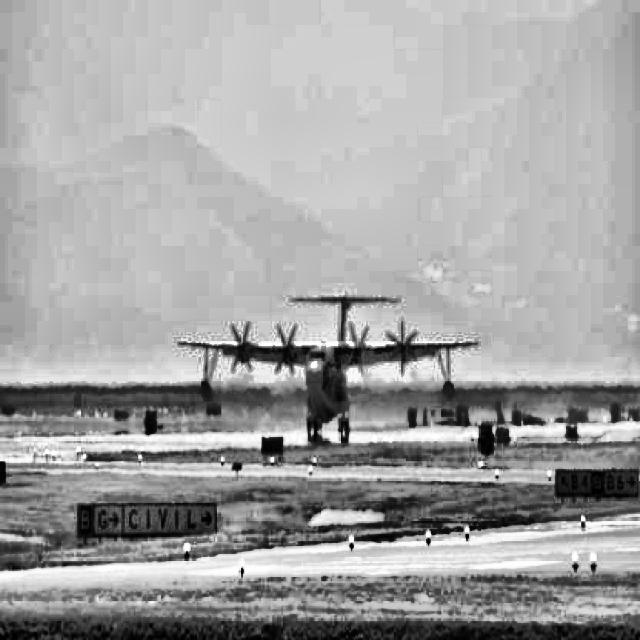US2: (177, 290, 480, 438)
